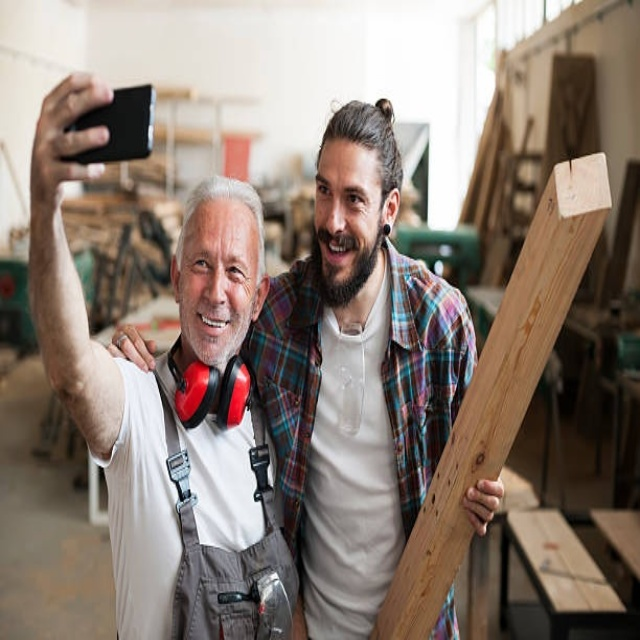Sin_gafas: (184, 245, 251, 285), (317, 169, 371, 210)
Sin_guantes: (30, 71, 116, 213), (462, 473, 504, 538)
Sin_mascara: (320, 227, 360, 273), (192, 304, 233, 348)
